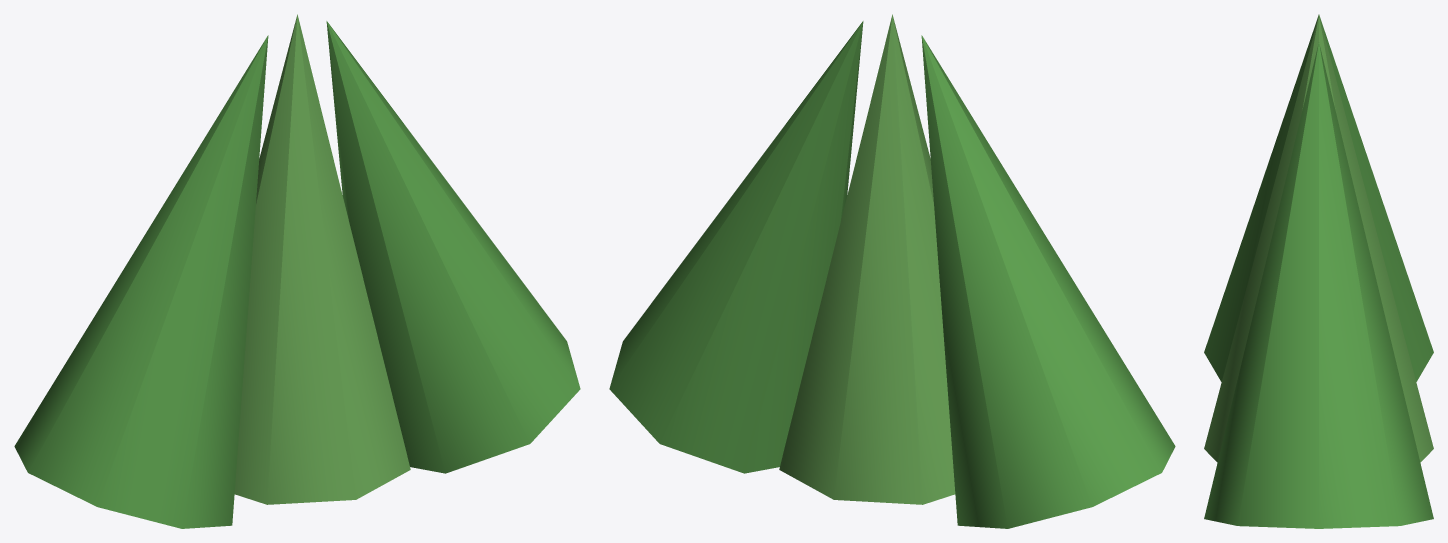
Rendered from grass-tuft.glb.
3 renders of one model, left to right at view 1: azimuth 30°, elevation 25°; view 2: azimuth 150°, elevation 25°; view 3: azimuth 270°, elevation 25°, orthographic. The views are drawn at different scales.
Bounding box in the file's own units: 0.6369 × 0.526 × 0.24.
